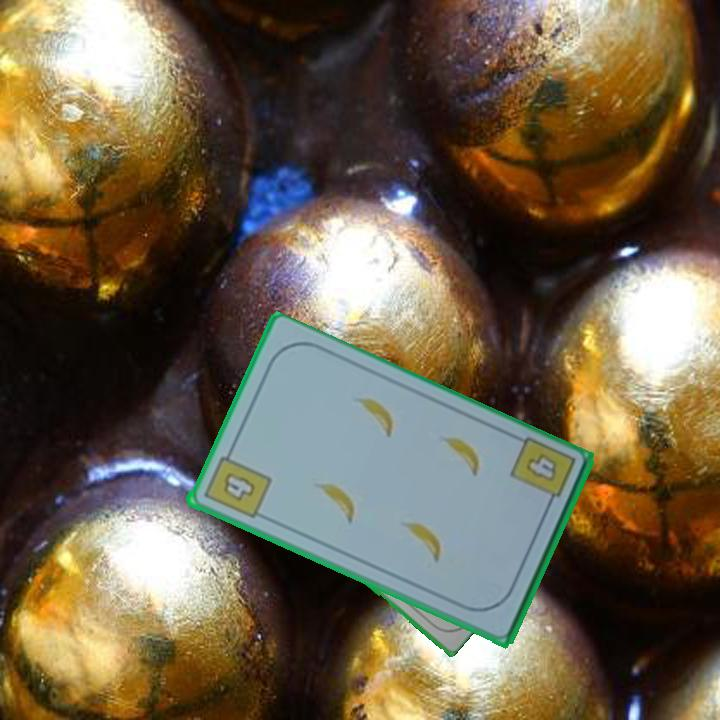4b: (506, 433, 578, 514), (199, 444, 273, 522)
